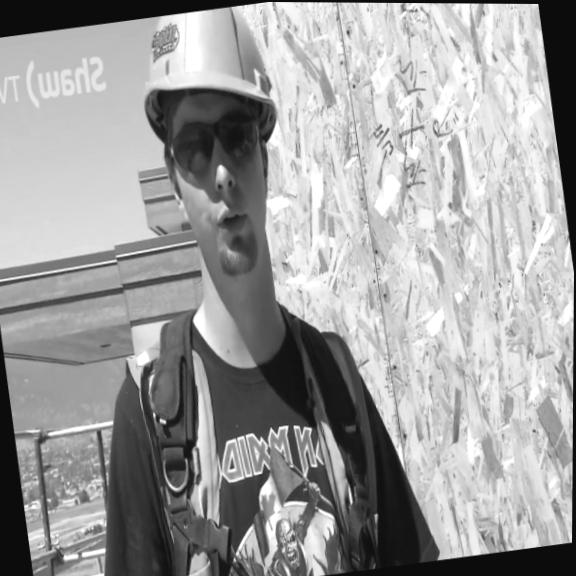safety_vest: (116, 297, 394, 576)
